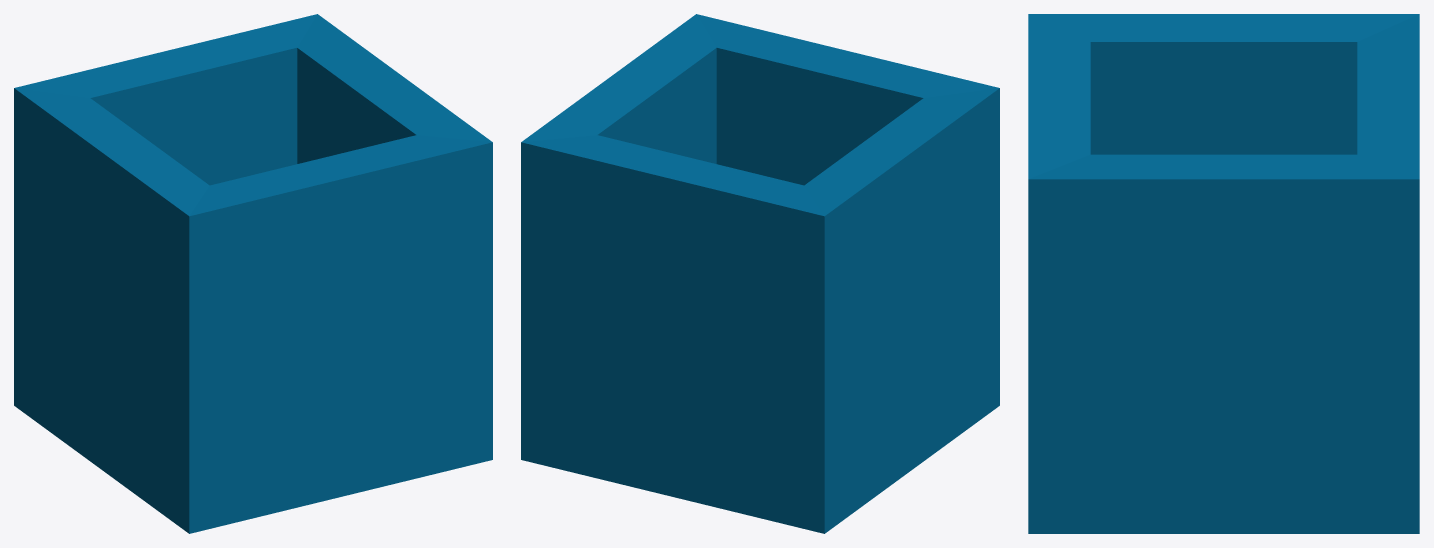
The model's file is pit.glb.
3 views of the same model, side by side, from view 1: azimuth 30°, elevation 25°; view 2: azimuth 150°, elevation 25°; view 3: azimuth 270°, elevation 25° (orthographic). The views are drawn at different scales.
Parts seen in each view (by area): view 1: Cube; view 2: Cube; view 3: Cube.
Part boxes in pixels (x1=…): Cube: x1=14, y1=14, x2=492, y2=533; Cube: x1=521, y1=14, x2=999, y2=533; Cube: x1=1028, y1=14, x2=1419, y2=533.
Bounding box in the file's own units: 20 × 20 × 20.
Materials: 1 (1 with a texture image).
